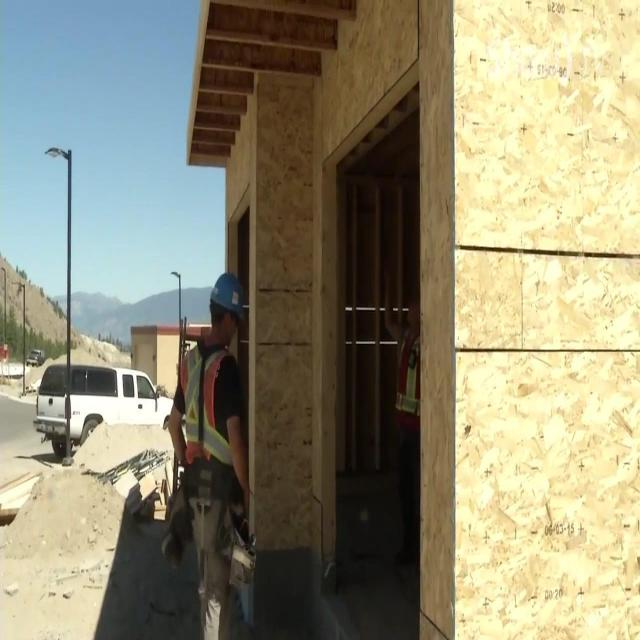Vest: (178, 340, 232, 464), (396, 328, 420, 430)
